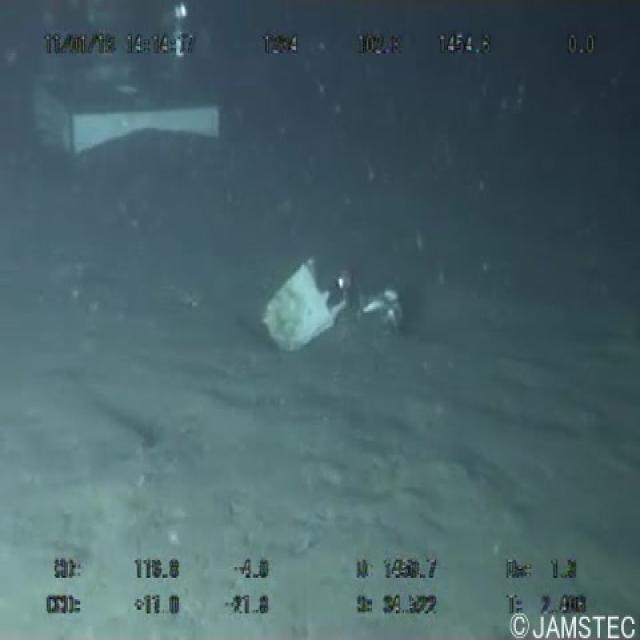plastic: (256, 251, 347, 359)
